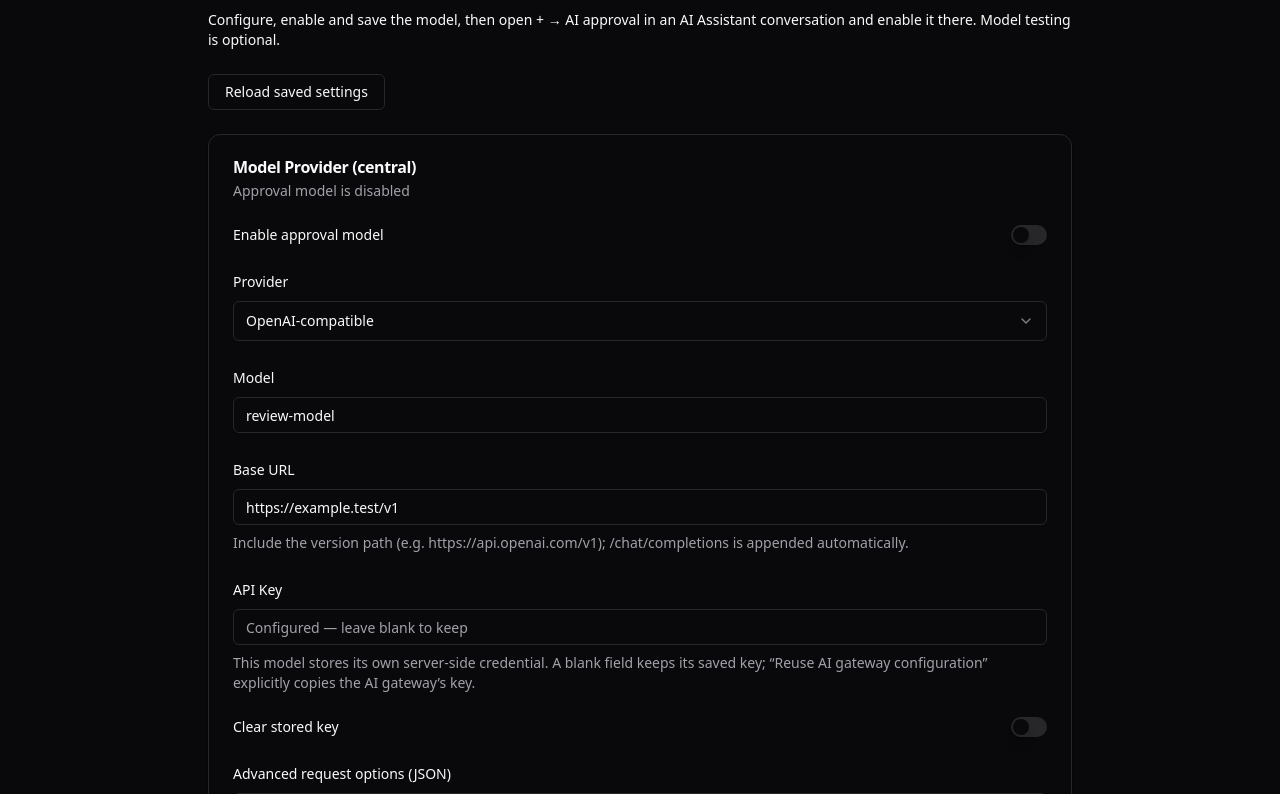
Test: independent OSS approval model configuration › directs the owner to conversation approval after enabling an untested model
expect the field showing "review-model" is shown: met, box top-left (233, 397), bottom-right (1047, 433)
Click the switch named "Enable approval model" in the row of "Enable approval model": (1029, 235) top-left (1011, 225), bottom-right (1047, 245)
(page scrolled)
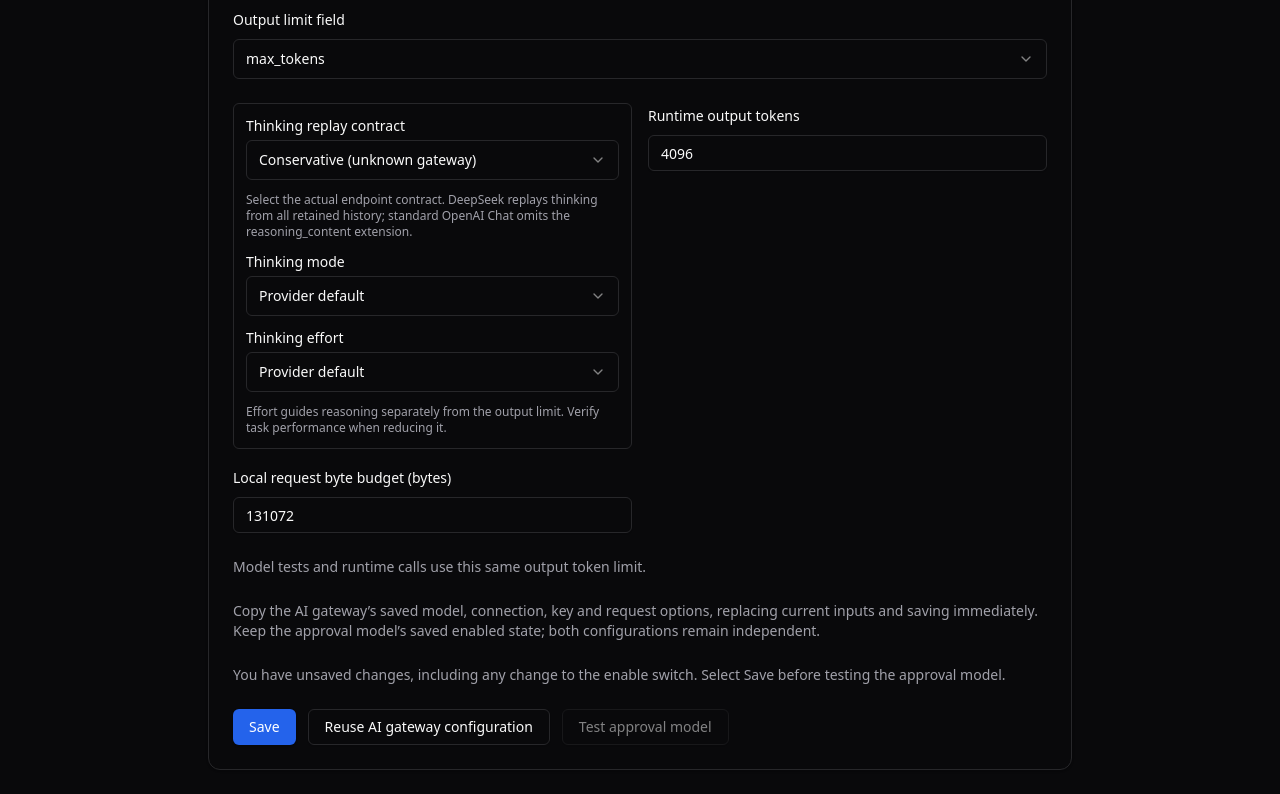
Click the button "Save": (264, 727) top-left (233, 709), bottom-right (296, 745)
(page scrolled)
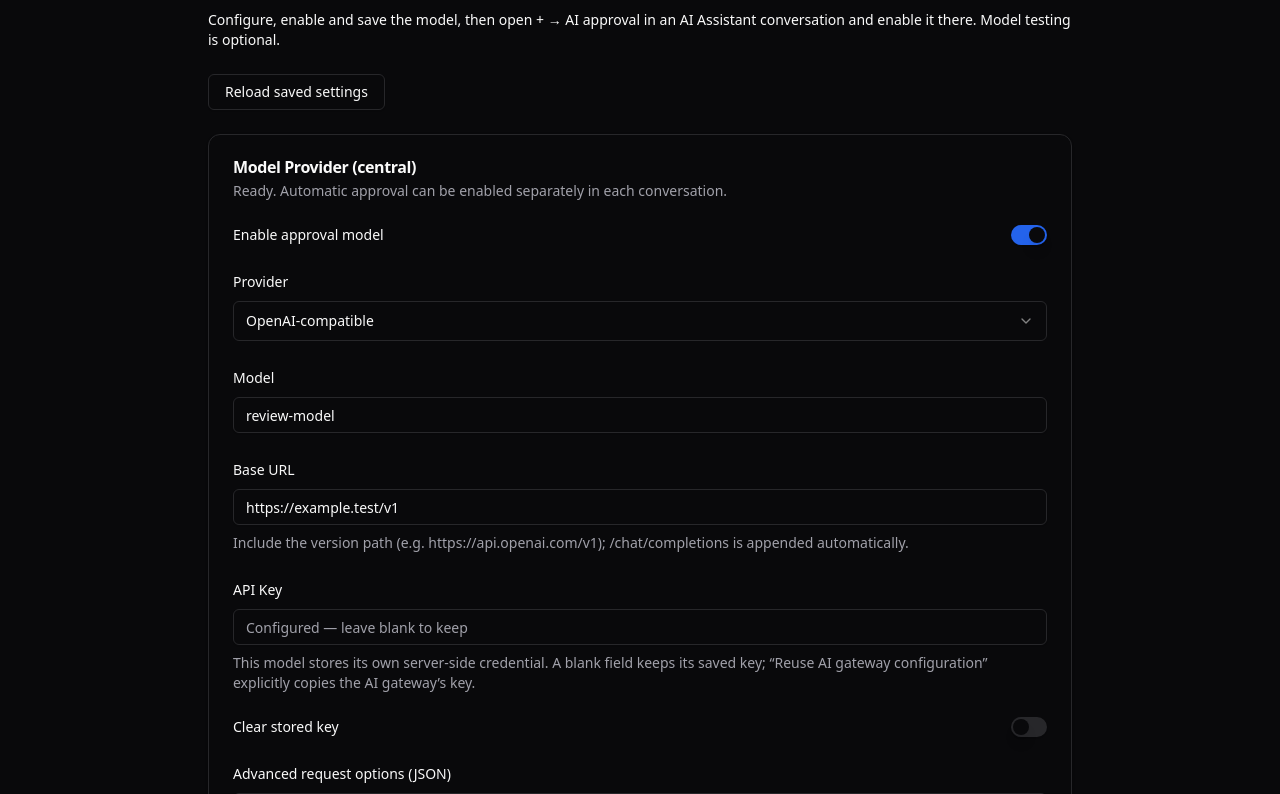
expect the switch named "Enable approval model" in the row of "Enable approval model" is checked: met, box top-left (1011, 225), bottom-right (1047, 245)
expect the text "Ready. Automatic approval can be enabled separately in each conversation." is shown: met, box top-left (233, 181), bottom-right (727, 200)
